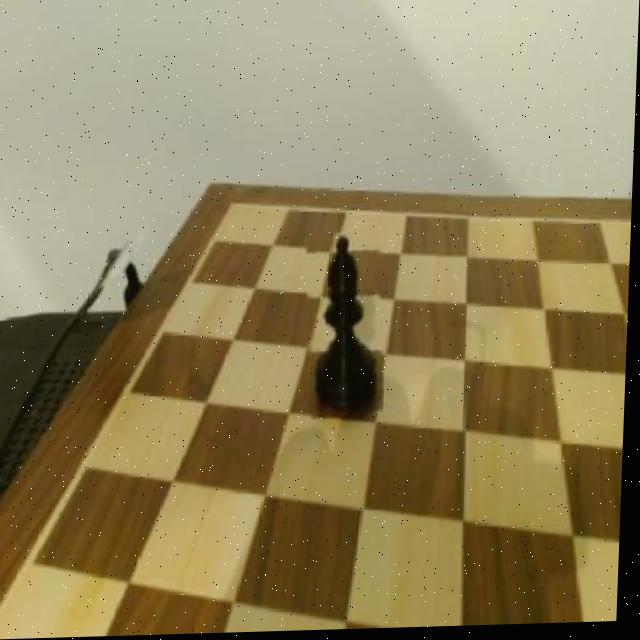bishop: (307, 231, 390, 421)
